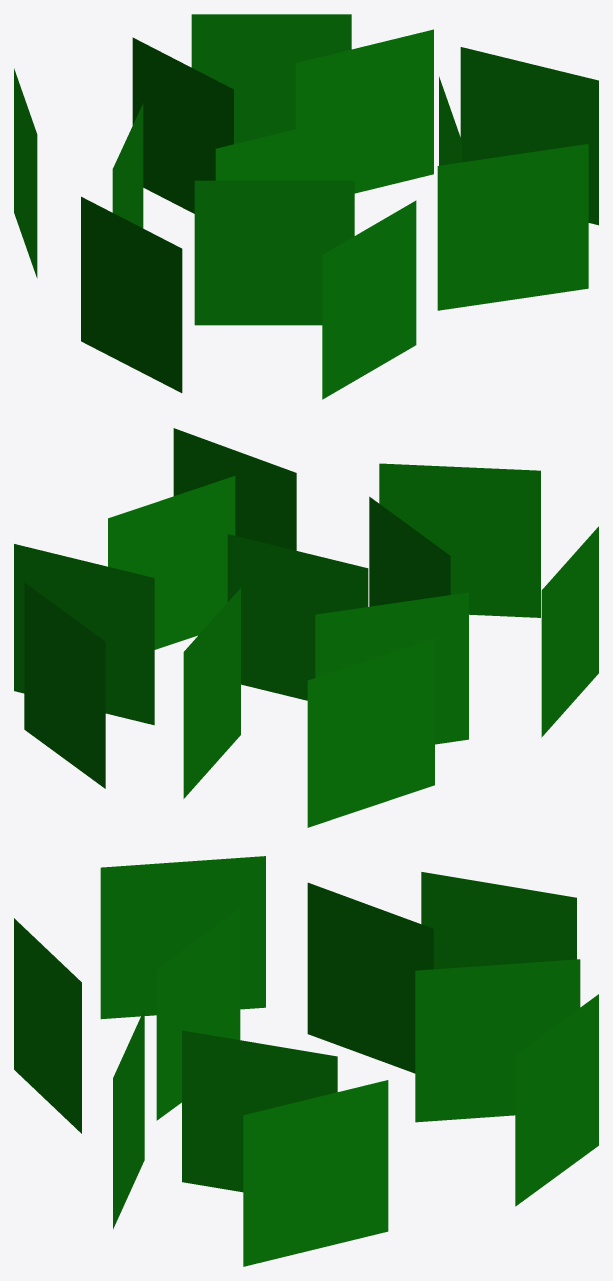
File: Grass.fbx
The picture shows the model from 3 angles, top to bottom: view 1: azimuth 30°, elevation 25°; view 2: azimuth 150°, elevation 25°; view 3: azimuth 270°, elevation 25°; orthographic projection. The views are drawn at different scales.
Visible parts, largest first — view 1: Grass; view 2: Grass; view 3: Grass.
Part boxes in pixels (left/top/right/bottom): Grass: left=14, top=14, right=598, bottom=399; Grass: left=14, top=428, right=598, bottom=827; Grass: left=14, top=856, right=598, bottom=1266.
Size of the model in its own units: 81.84 by 22.73 by 78.05.
